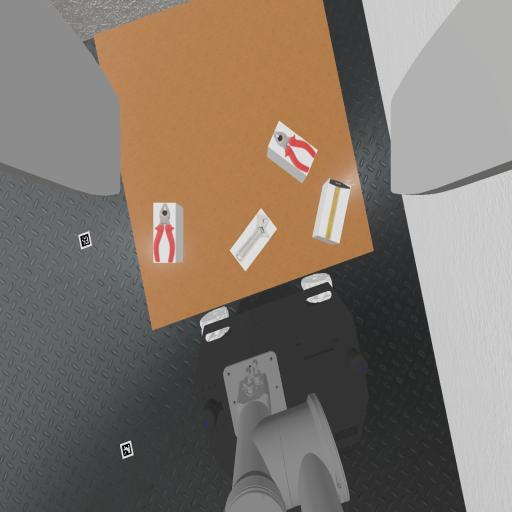hammer: (326, 179, 350, 238)
pliers: (274, 132, 316, 172), (154, 203, 175, 262)
wrench: (237, 214, 269, 261)
